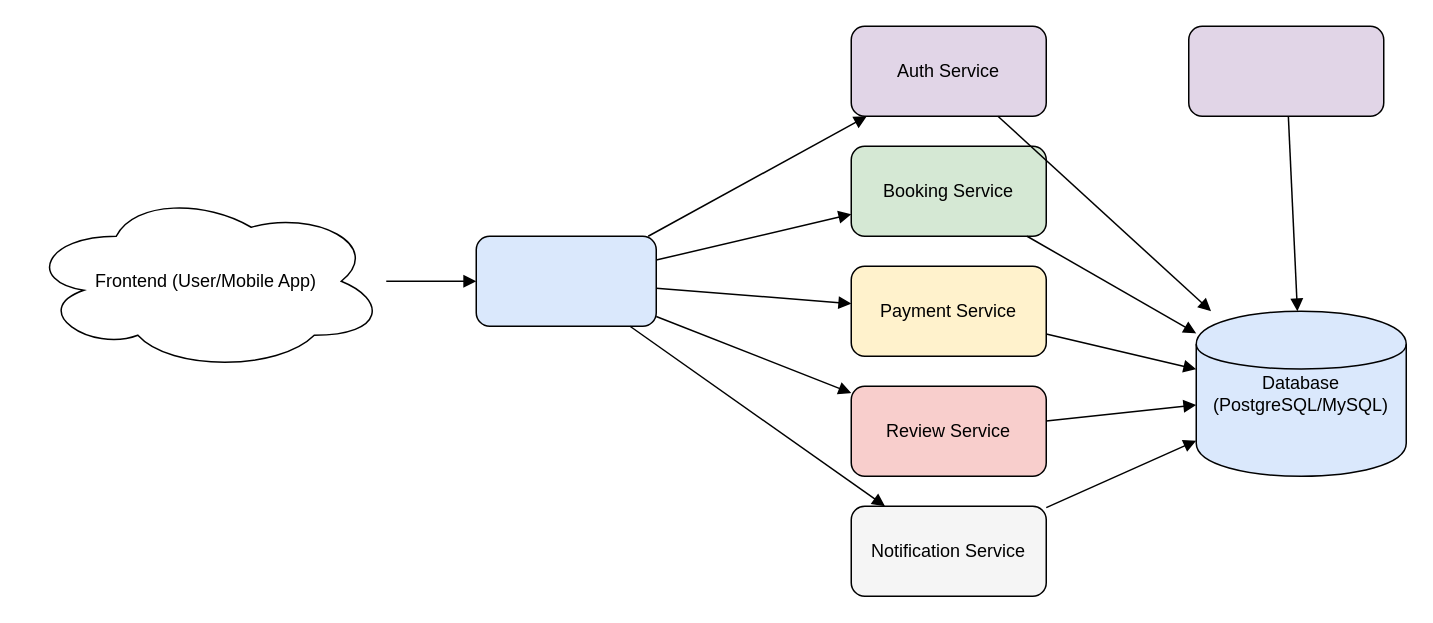
The diagram is 1433 pixels wide and 623 high, and some of its shapes have lost their labels. Here are the shapes that lost their labels. From the top down, the centre of each, then its label:
At point 1285,70: "Admin Panel".
At point 565,280: "API Gateway".
